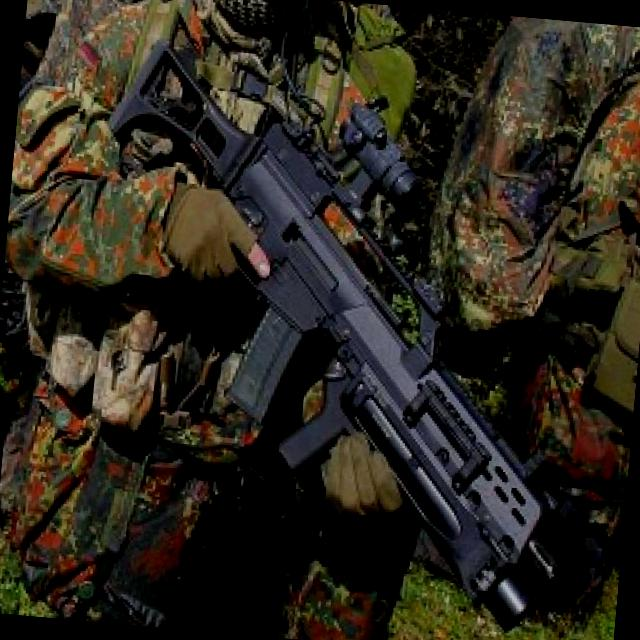long weapon: (74, 9, 618, 640)
